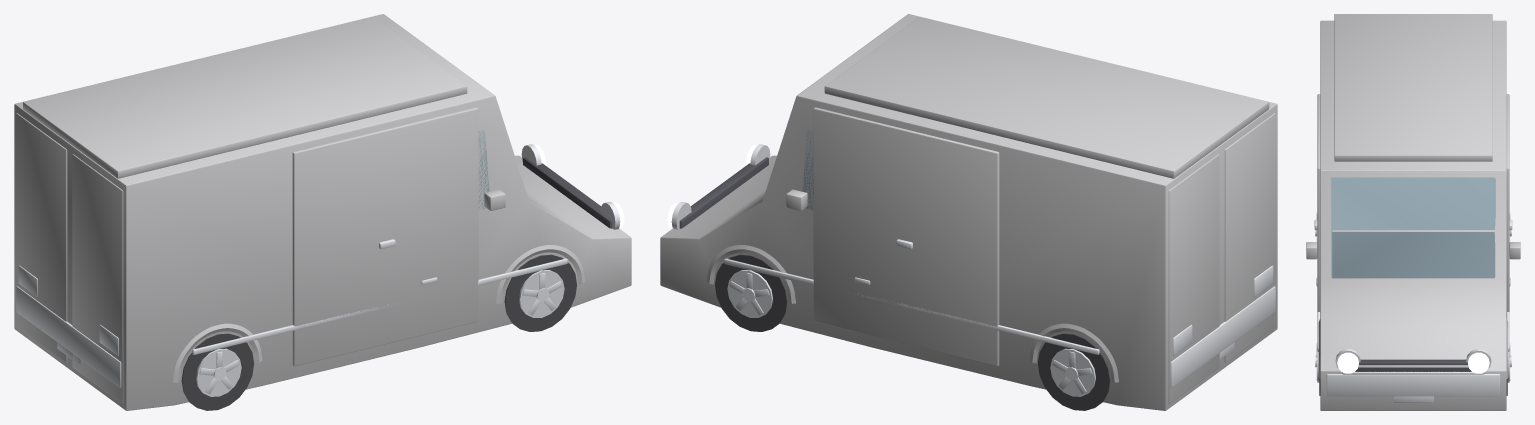
The model's file is th37_lieferwagen.glb.
The picture shows the model from 3 angles, left to right: view 1: azimuth 30°, elevation 25°; view 2: azimuth 150°, elevation 25°; view 3: azimuth 270°, elevation 25°; orthographic projection. The views are drawn at different scales.
Visible parts, largest first — view 1: Karosse, Cube.058, Cube.066, Cube.064, Cube.065, Cube.050, Cylinder, Cylinder.007, Cube.020, Cube.046, Cylinder.001, Cylinder.008 (+3 smaller); view 2: Karosse, Cube.061, Cube.066, Cube.065, Cube.064, Cube.050, Cylinder.014, Cylinder.021, Cube.043, Cube.046, Cylinder.017, Cylinder.024 (+3 smaller); view 3: Karosse, Cube.066, Frontscheibe, Cube.051, Cube.046, Cube.058, Cube.061, Cube.048, Cylinder.028, Cylinder.030, Cube.049, Cube.056 (+2 smaller).
Boxes of the visible parts, bbox=[...] form: Karosse: bbox=[14, 14, 631, 410]; Cube.058: bbox=[292, 107, 478, 366]; Cube.066: bbox=[23, 16, 467, 178]; Cube.064: bbox=[72, 154, 123, 403]; Cube.065: bbox=[16, 113, 67, 362]; Cube.050: bbox=[16, 286, 121, 387]; Cylinder: bbox=[181, 333, 254, 410]; Cylinder.007: bbox=[504, 254, 576, 331]; Cube.020: bbox=[192, 258, 567, 354]; Cube.046: bbox=[523, 157, 612, 228]; Cylinder.001: bbox=[196, 348, 241, 396]; Cylinder.008: bbox=[519, 270, 564, 317]; Karosse: bbox=[660, 14, 1277, 410]; Cube.061: bbox=[813, 107, 999, 366]; Cube.066: bbox=[824, 16, 1269, 178]; Cube.065: bbox=[1168, 154, 1219, 403]; Cube.064: bbox=[1224, 113, 1275, 362]; Cube.050: bbox=[1170, 286, 1275, 387]; Cylinder.014: bbox=[1038, 333, 1110, 410]; Cylinder.021: bbox=[715, 254, 787, 331]; Cube.043: bbox=[724, 258, 1099, 354]; Cube.046: bbox=[679, 157, 768, 228]; Cylinder.017: bbox=[1050, 348, 1095, 396]; Cylinder.024: bbox=[727, 270, 772, 317]; Karosse: bbox=[1320, 20, 1506, 410]; Cube.066: bbox=[1334, 14, 1492, 161]; Frontscheibe: bbox=[1331, 177, 1495, 278]; Cube.051: bbox=[1326, 374, 1500, 396]; Cube.046: bbox=[1342, 359, 1484, 373]; Cube.058: bbox=[1317, 94, 1320, 312]; Cube.061: bbox=[1506, 94, 1509, 312]; Cube.048: bbox=[1342, 372, 1484, 374]; Cylinder.028: bbox=[1337, 352, 1358, 373]; Cylinder.030: bbox=[1468, 352, 1489, 373]; Cube.049: bbox=[1358, 365, 1468, 367]; Cube.056: bbox=[1393, 396, 1433, 402].
Size of the model in its own units: 5.25 by 2.5 by 2.3.
